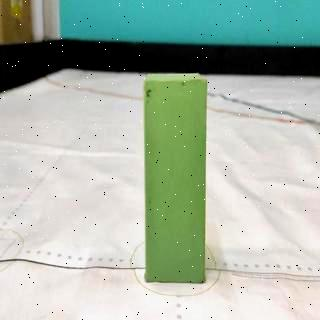greenbox: (144, 74, 206, 284)
